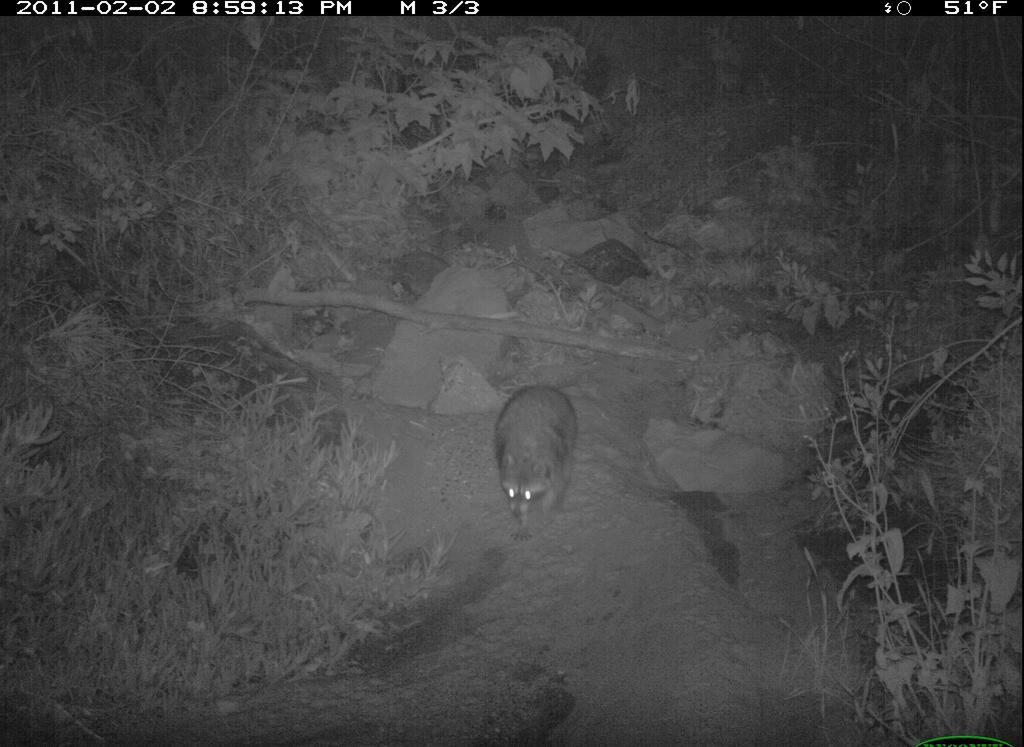raccoon: (491, 373, 591, 548)
